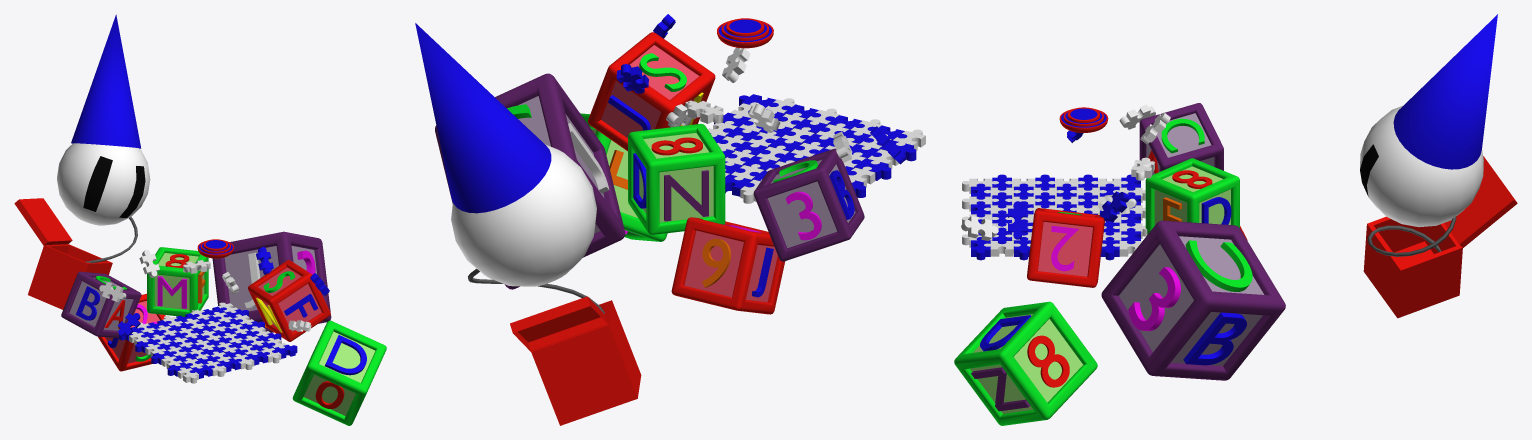
Rendered from Sala_Payaso.fbx.
3 renders of one model, left to right at view 1: azimuth 30°, elevation 25°; view 2: azimuth 150°, elevation 25°; view 3: azimuth 270°, elevation 25°, orthographic. The views are drawn at different scales.
Visible parts, largest first — view 1: Text.002, Cone, Cube.077, Cube.015, Cube.029, Cube.037, Cylinder; view 2: Text.002, Cone, Cube.077, Cube.015, Cube.029, Cube.037, Cylinder, Spiral.001; view 3: Text.002, Cone, Cube.077, Cube.015, Cube.029, Cube.037, Cylinder, Spiral.001.
Boxes of the visible parts, x1,y1,x2,y2 form: Text.002: (61, 231, 386, 425); Cone: (14, 14, 150, 309); Cube.077: (119, 306, 297, 378); Cube.015: (129, 302, 286, 383); Cube.029: (99, 249, 311, 331); Cube.037: (118, 246, 329, 335); Cylinder: (197, 239, 233, 258); Text.002: (435, 32, 864, 314); Cone: (415, 23, 641, 425); Cube.077: (710, 94, 916, 197); Cube.015: (707, 98, 925, 203); Cube.029: (666, 47, 852, 162); Cube.037: (616, 14, 906, 164); Cylinder: (717, 18, 773, 48); Spiral.001: (468, 268, 604, 313); Text.002: (954, 103, 1285, 425); Cone: (1360, 14, 1517, 318); Cube.077: (971, 174, 1140, 260); Cube.015: (962, 178, 1147, 256); Cube.029: (961, 104, 1170, 241); Cube.037: (1008, 130, 1129, 239); Cylinder: (1059, 107, 1108, 132); Spiral.001: (1367, 216, 1456, 256).
Size of the model in its own units: 12779 by 13298 by 17826.
